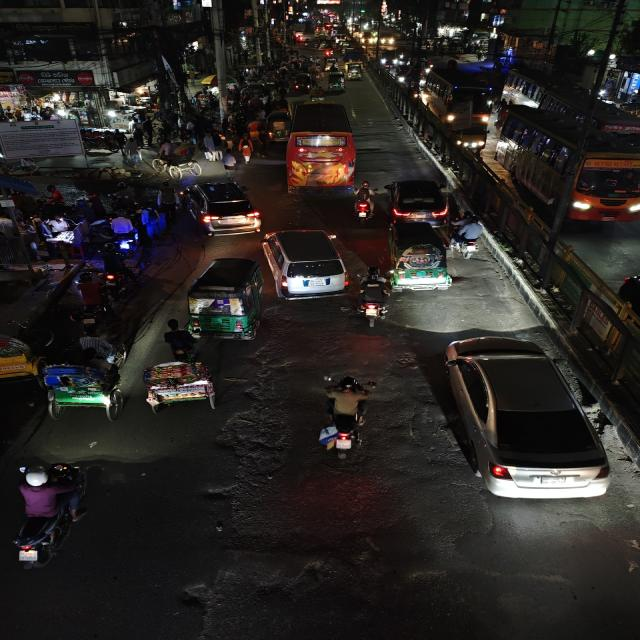bus: (503, 106, 639, 228), (285, 99, 360, 197), (420, 67, 498, 126)
car: (430, 331, 611, 504), (260, 226, 352, 302), (182, 177, 264, 236), (382, 176, 451, 222)
cng: (183, 256, 266, 342), (384, 220, 452, 293), (264, 111, 288, 139), (288, 73, 315, 94), (326, 72, 346, 92), (344, 62, 364, 82)
motorcycle: (4, 458, 92, 572), (316, 374, 381, 461), (353, 265, 395, 323), (448, 214, 488, 260), (352, 180, 377, 226)
pedestrian: (106, 212, 140, 252), (138, 204, 168, 241), (199, 131, 219, 161), (206, 132, 224, 163), (220, 147, 240, 173), (238, 136, 255, 164)
rickshaw: (37, 349, 132, 421), (137, 356, 233, 414), (0, 320, 50, 382), (264, 111, 290, 139)
